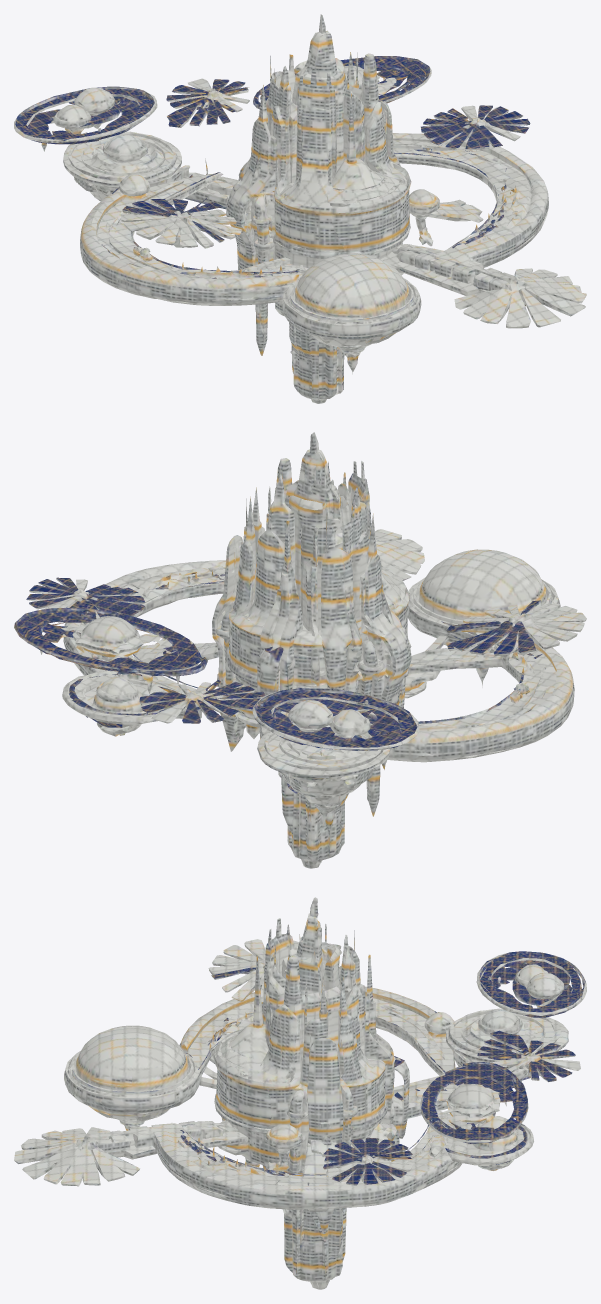
Rendered from station-europa-2.glb.
3 views of the same model, one above another, from view 1: azimuth 30°, elevation 25°; view 2: azimuth 150°, elevation 25°; view 3: azimuth 270°, elevation 25° (orthographic). The views are drawn at different scales.
Visible parts, largest first — view 1: station-europa-2; view 2: station-europa-2; view 3: station-europa-2.
Boxes of the visible parts, box(x1,y1,x2,y2) form: station-europa-2: box(14, 14, 586, 403); station-europa-2: box(14, 432, 586, 868); station-europa-2: box(14, 897, 586, 1289).
Size of the model in its own units: 273 by 225 by 300.
Materials: 1 (1 with a texture image).
